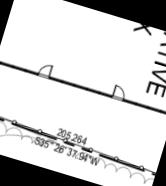door: (110, 84, 128, 104), (37, 62, 55, 81)
